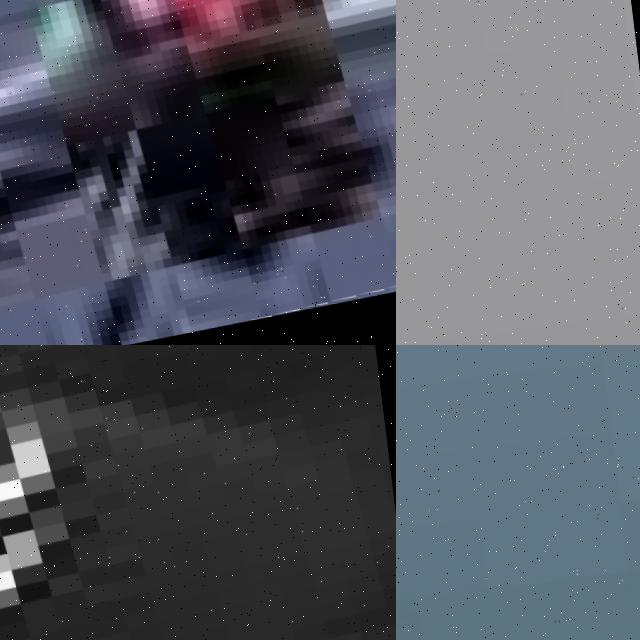0: (0, 0, 396, 345)
drone: (0, 345, 396, 640)
